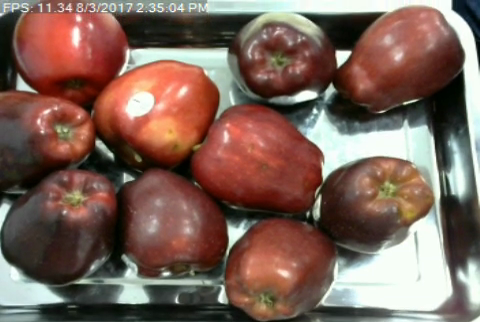Apple: (189, 101, 327, 216), (329, 4, 469, 114), (0, 168, 123, 291), (89, 58, 221, 172), (114, 165, 231, 282), (220, 213, 340, 322), (311, 153, 438, 255), (9, 0, 132, 104), (225, 7, 339, 107), (0, 87, 97, 190)
